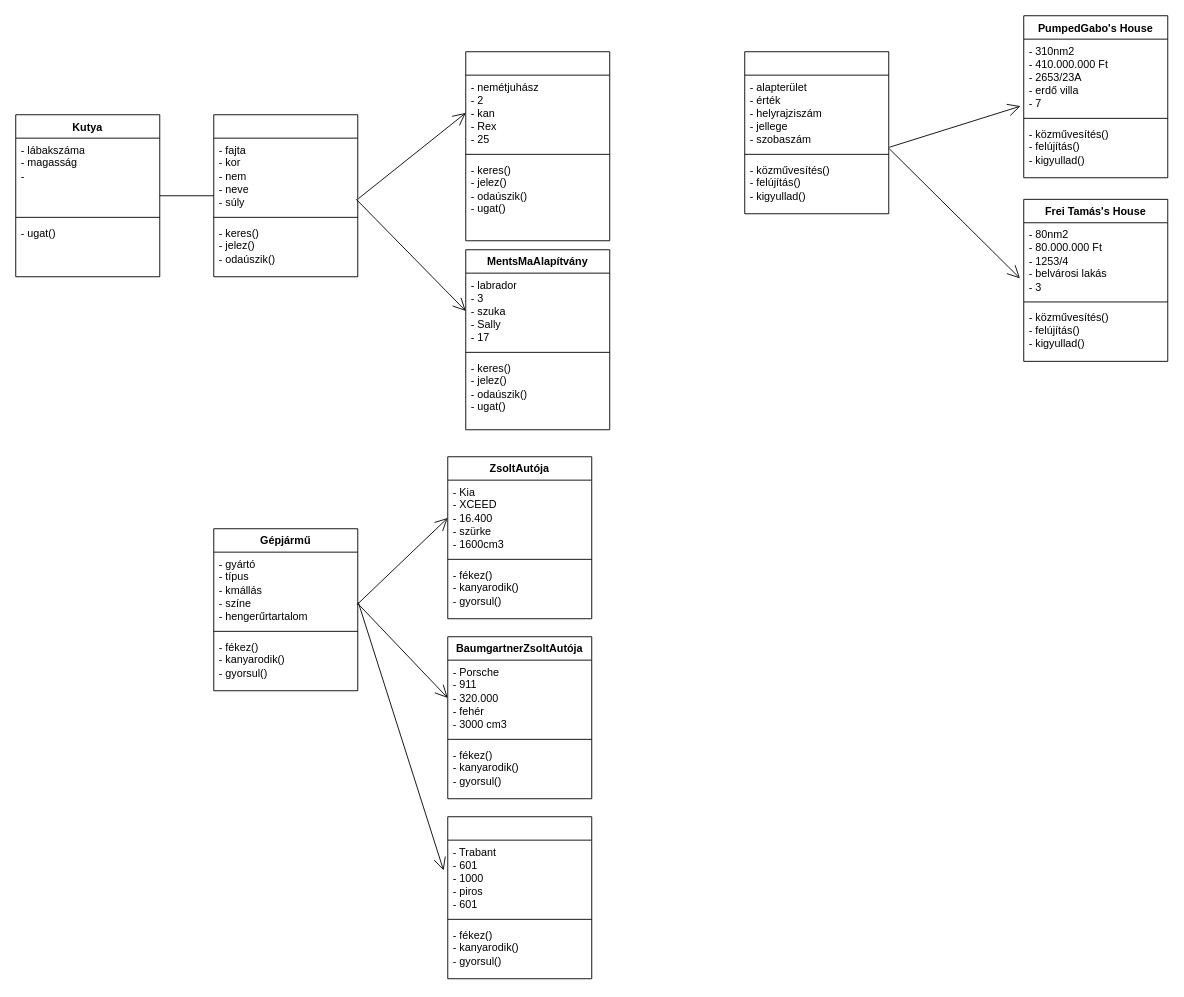
Some shapes in this 1184 by 997 pixel diagram are drawn without their labels. Each missing label, with the box of its shape:
Ingatlan: (744, 51, 889, 214)
Mentőkutya: (213, 114, 358, 277)
SiposFTamásAutója: (447, 816, 592, 979)
TappancsAlapítványKutya: (465, 51, 610, 241)
